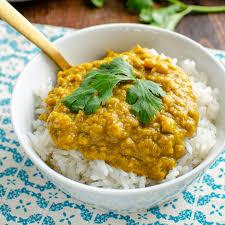Dhal Curry: (50, 44, 192, 165)
